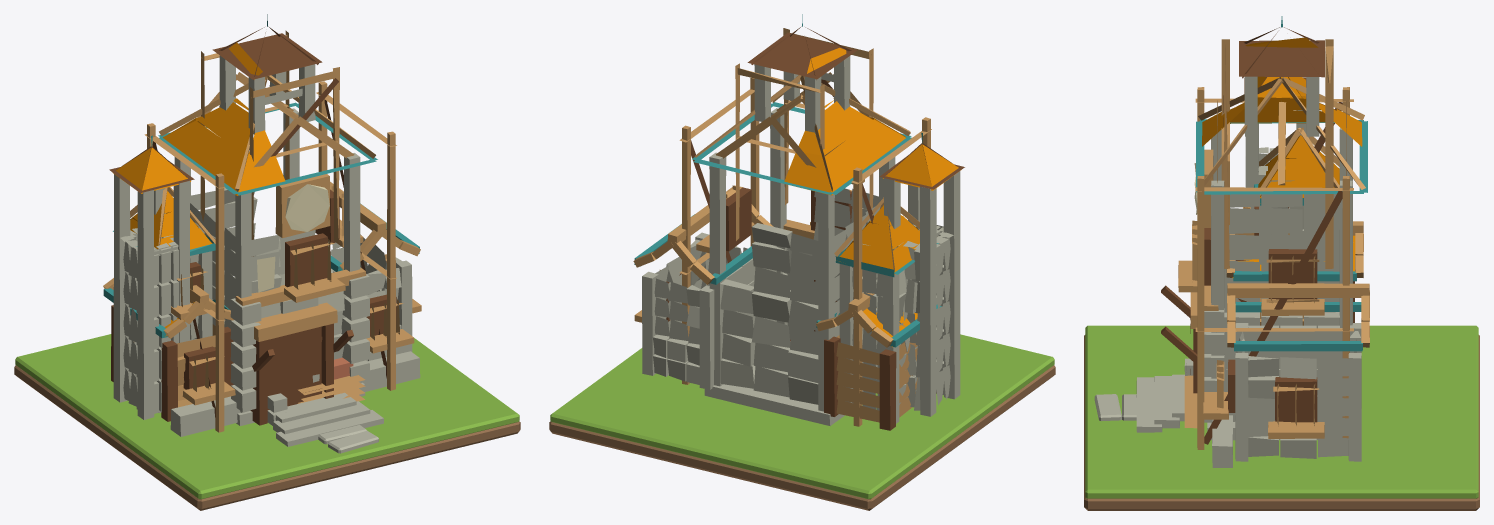
The model's file is town_hall_l08_construction_LOD2.glb.
3 renders of one model, left to right at view 1: azimuth 30°, elevation 25°; view 2: azimuth 150°, elevation 25°; view 3: azimuth 270°, elevation 25°, orthographic. The views are drawn at different scales.
Parts seen in each view (by area): view 1: town_hall_l08_construction_foundation.001, town_hall_l08_construction_grass_tile.001, town_hall_l08_construction_earth_tile.001, town_hall_l08_construction_path_stone.005; view 2: town_hall_l08_construction_foundation.001, town_hall_l08_construction_grass_tile.001, town_hall_l08_construction_earth_tile.001; view 3: town_hall_l08_construction_foundation.001, town_hall_l08_construction_grass_tile.001, town_hall_l08_construction_earth_tile.001, town_hall_l08_construction_path_stone.005.
Boxes of the visible parts, x1,y1,x2,y2 form: town_hall_l08_construction_foundation.001: (103,14,421,446); town_hall_l08_construction_grass_tile.001: (15,334,519,499); town_hall_l08_construction_earth_tile.001: (14,365,520,510); town_hall_l08_construction_path_stone.005: (328,431,378,453); town_hall_l08_construction_foundation.001: (633,14,964,430); town_hall_l08_construction_grass_tile.001: (550,334,1054,499); town_hall_l08_construction_earth_tile.001: (549,365,1055,510); town_hall_l08_construction_foundation.001: (1136,16,1369,467); town_hall_l08_construction_grass_tile.001: (1085,325,1478,498); town_hall_l08_construction_earth_tile.001: (1084,335,1479,510); town_hall_l08_construction_path_stone.005: (1094,394,1121,421).
Size of the model in its own units: 3.6 by 4.16 by 3.6.
